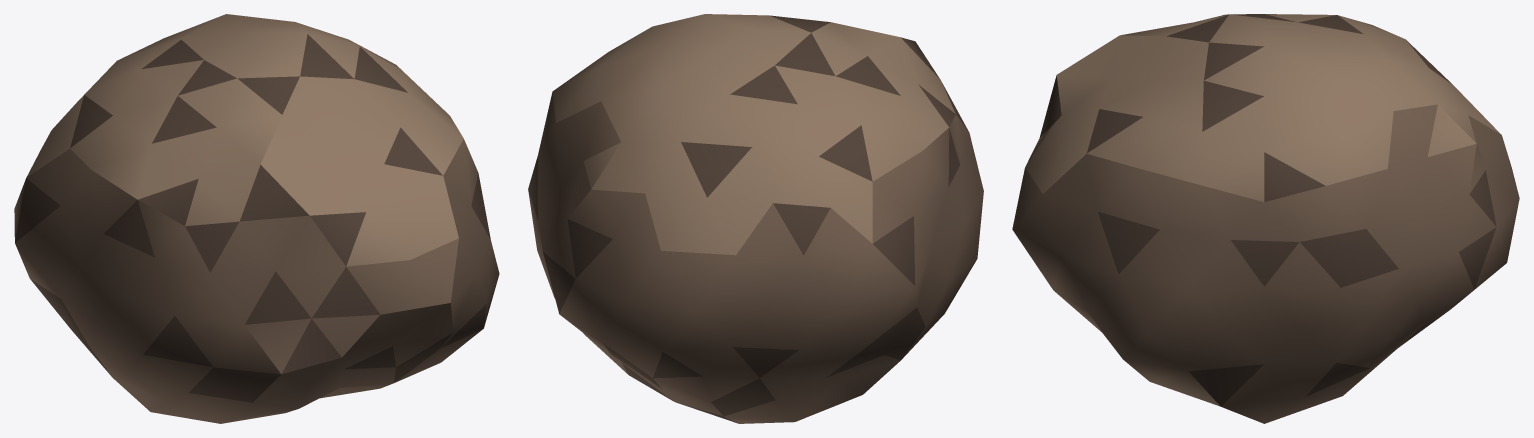
The model's file is asteroid_c.glb.
The picture shows the model from 3 angles, left to right: view 1: azimuth 30°, elevation 25°; view 2: azimuth 150°, elevation 25°; view 3: azimuth 270°, elevation 25°; orthographic projection. The views are drawn at different scales.
Visible parts, largest first — view 1: asteroid_c; view 2: asteroid_c; view 3: asteroid_c.
Part boxes in pixels (<box>): asteroid_c: <box>14,14,499,423</box>; asteroid_c: <box>528,14,983,423</box>; asteroid_c: <box>1012,14,1519,423</box>.
Bounding box in the file's own units: 2.73 × 2.49 × 3.15.
Materials: 1 (1 with a texture image).
